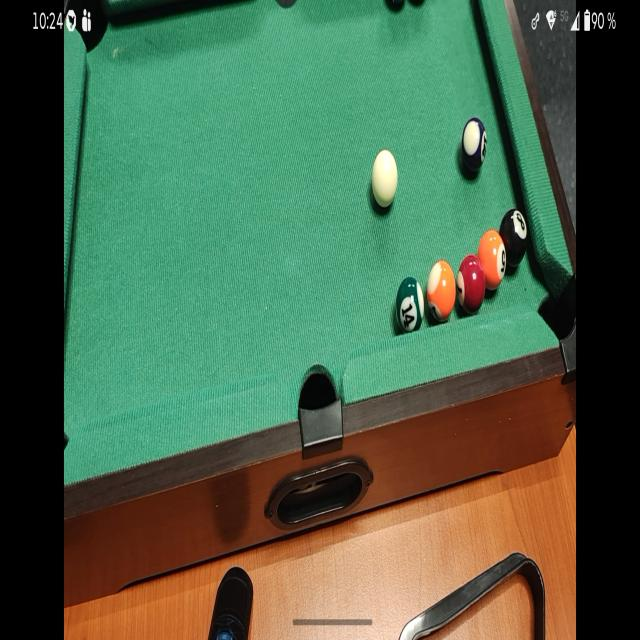cue ball: (368, 148, 399, 217)
other: (426, 259, 458, 325), (394, 275, 426, 338), (498, 204, 529, 268), (457, 252, 486, 316), (461, 116, 488, 180), (479, 228, 506, 290)
